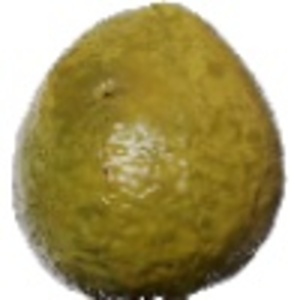goiaba: (10, 6, 274, 295)
